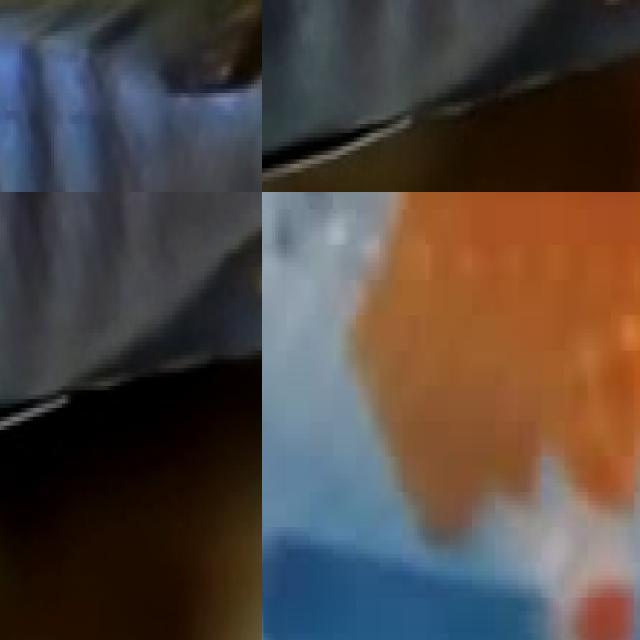fish: (0, 192, 262, 527), (262, 0, 640, 192), (0, 0, 262, 192)
